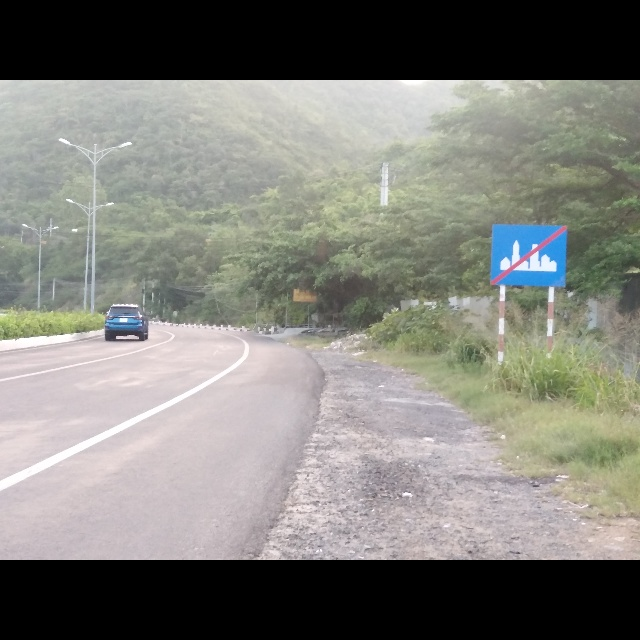Hết khu đông dân cư: (490, 224, 567, 289)
